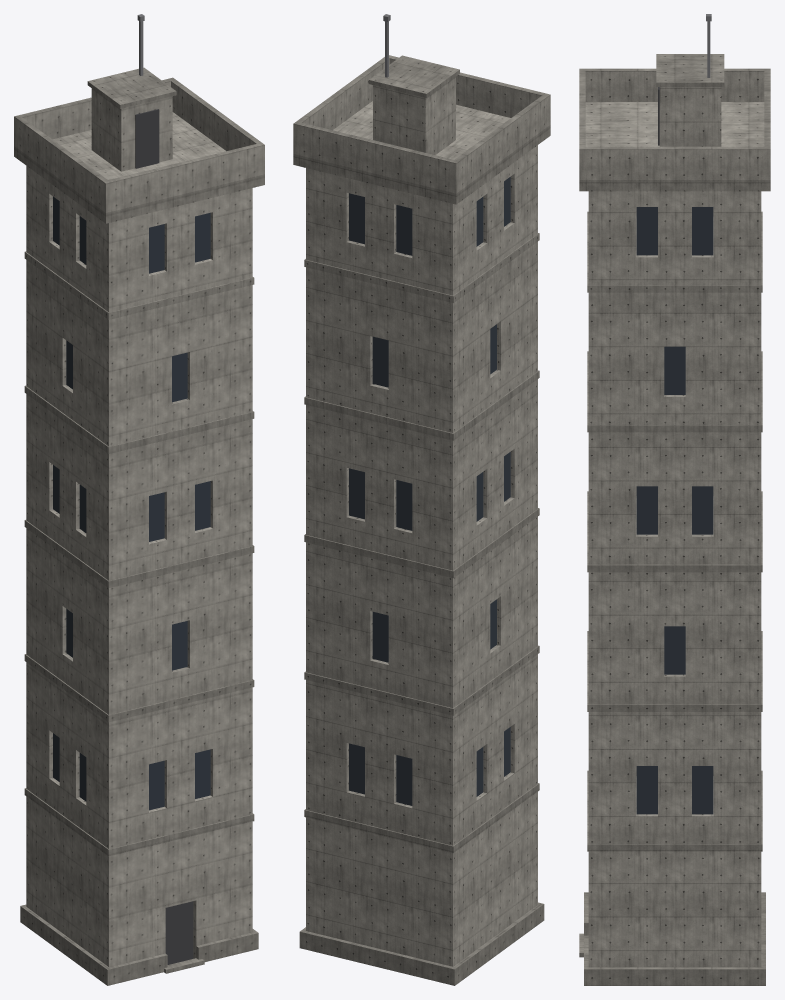
The model's file is concrete_tower.glb.
3 renders of one model, left to right at view 1: azimuth 30°, elevation 25°; view 2: azimuth 150°, elevation 25°; view 3: azimuth 270°, elevation 25°, orthographic. The views are drawn at different scales.
Visible parts, largest first — view 1: concrete_tower; view 2: concrete_tower; view 3: concrete_tower.
Part boxes in pixels (left/top/right/bottom): concrete_tower: left=14, top=14, right=264, bottom=985; concrete_tower: left=293, top=14, right=550, bottom=985; concrete_tower: left=579, top=14, right=770, bottom=985.
Bounding box in the file's own units: 6.2 × 33.68 × 6.2.
Materials: 5 (2 with a texture image).
